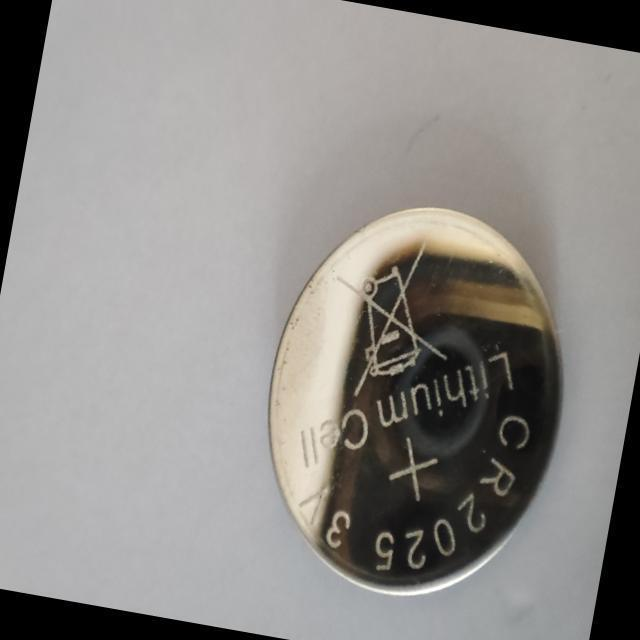COIN: (235, 181, 593, 618)
